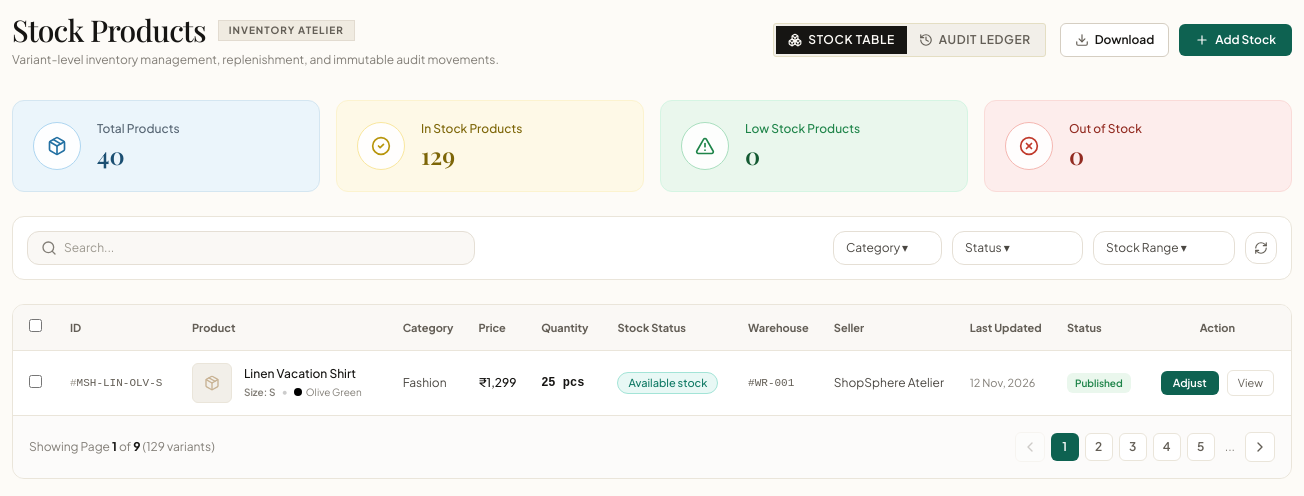
Test: Frontend Admin Suite (/admin/*) › AdminInventoryPage (/admin/inventory) › renders unwrapped inventory response structure with accurate 4-card KPI counts
The width and height of the screenshot is (1304, 496).
Expected: the text "40" is shown, [97,139,124,171]
Expected: the text "129" is shown, [421,139,455,171]
# Switch to Movements tab
Click the button "Audit Ledger" at (975, 40), box [907,26,1043,54]
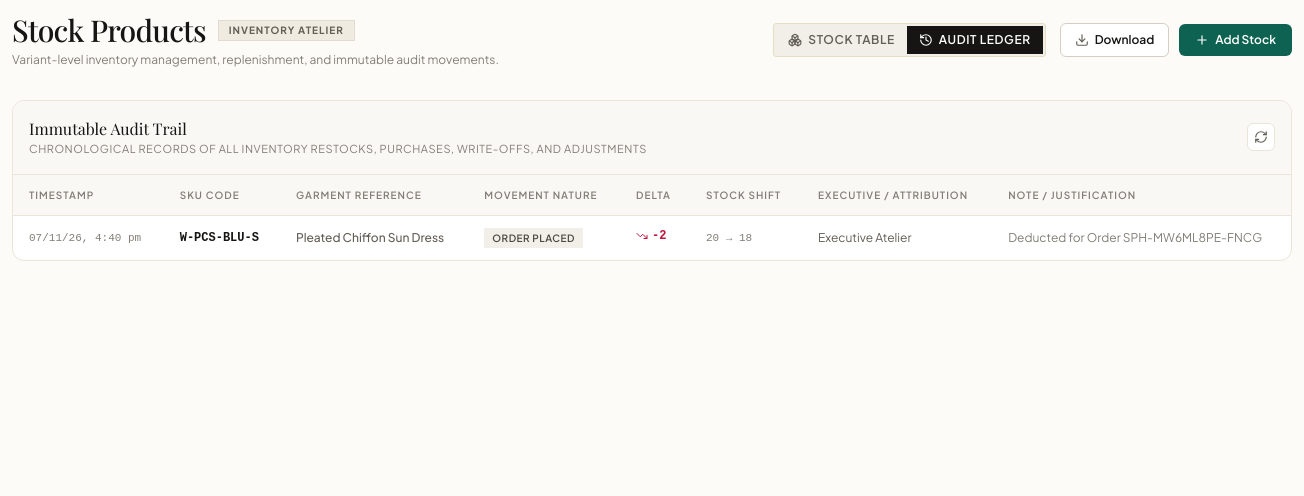
Result: the text "W-PCS-BLU-S" is shown at [164,215,280,260]
Result: the text "Pleated Chiffon Sun Dress" is shown at [280,215,468,260]
Result: the text "order placed" is shown at [484,228,583,248]
